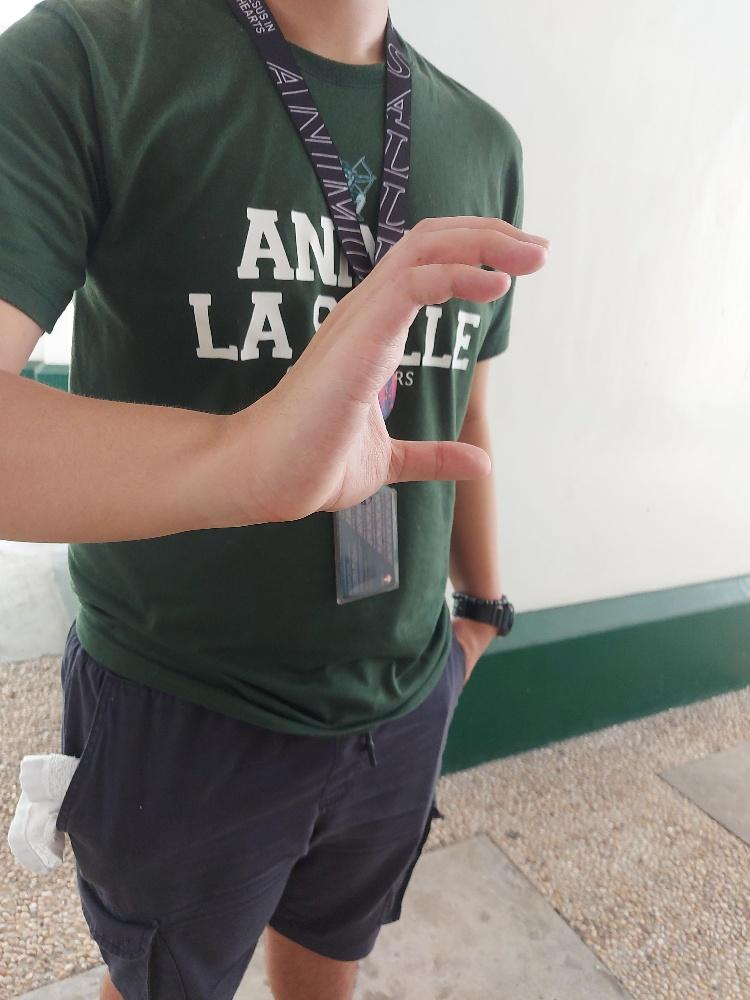c: (237, 211, 555, 524)
